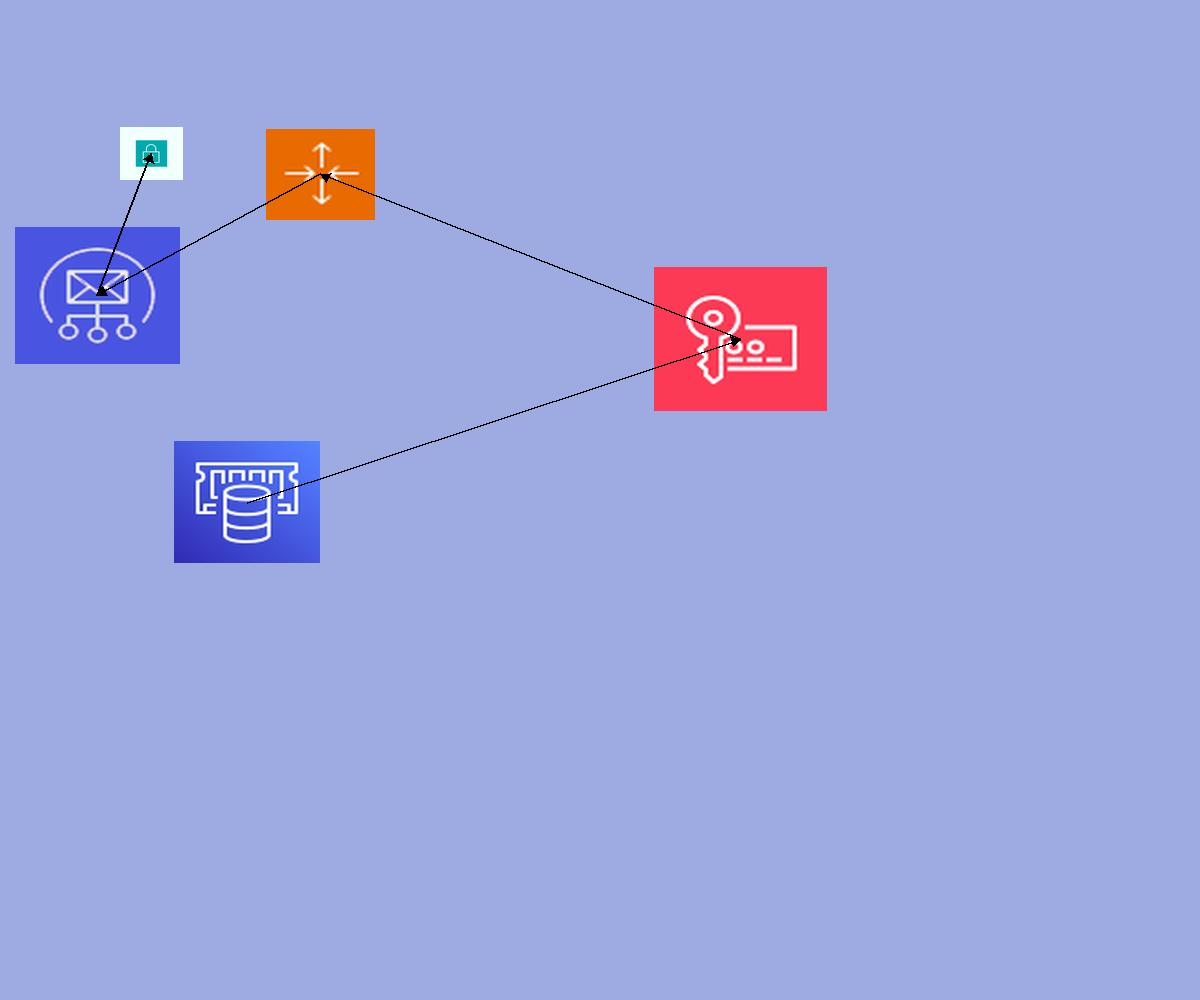AWS-ElastiCache: (174, 441, 320, 563)
AWS-Key-Management-Service: (654, 267, 827, 411)
AWS-Private-subnet: (120, 127, 183, 180)
AWS-Scaling-group: (266, 129, 375, 220)
AWS-Simple-Email-Service: (15, 227, 180, 364)
